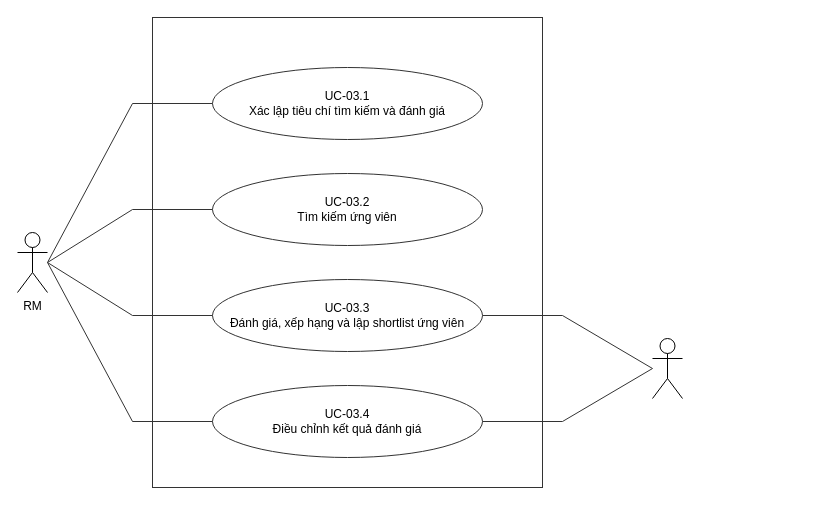
This 834x505 diagram has some shape labels left out. Here are the shapes that lost their labels. From the top down, the box of each, then its label:
(152, 16, 542, 488): UC-03 Tìm kiếm và đánh giá mức độ phù hợp (V4)
(652, 338, 682, 398): PMO/Quản lý danh mục
